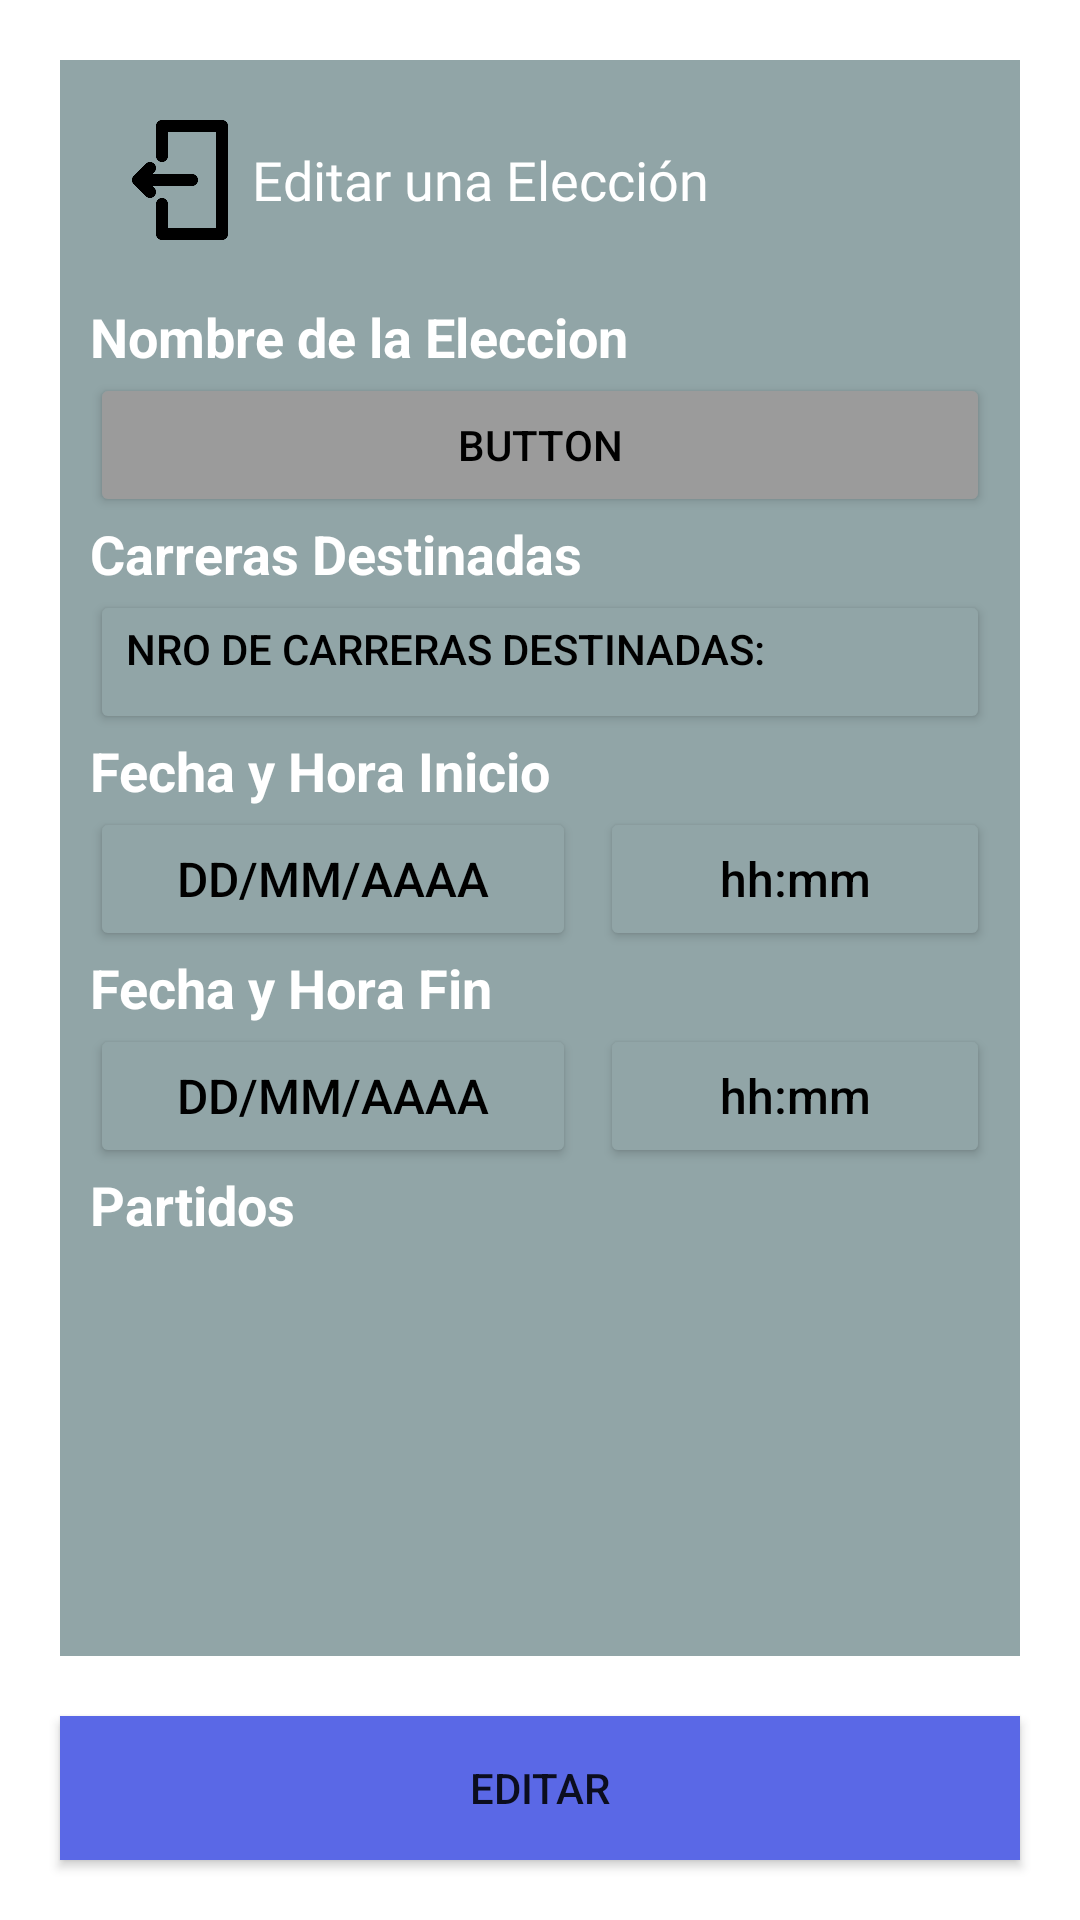

Icons on this 1080×1920 Android screen, each with its box as [x1, y1, x2, y2]:
Volver: [132, 120, 228, 240]
